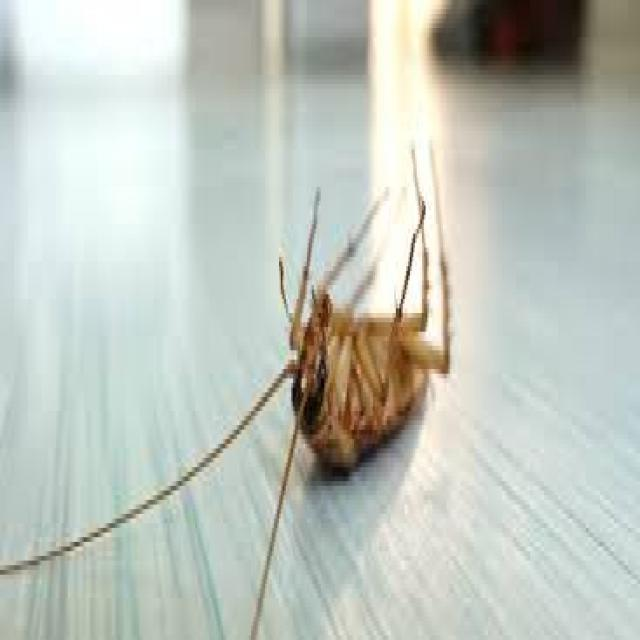Cockroach: (138, 107, 460, 640)
